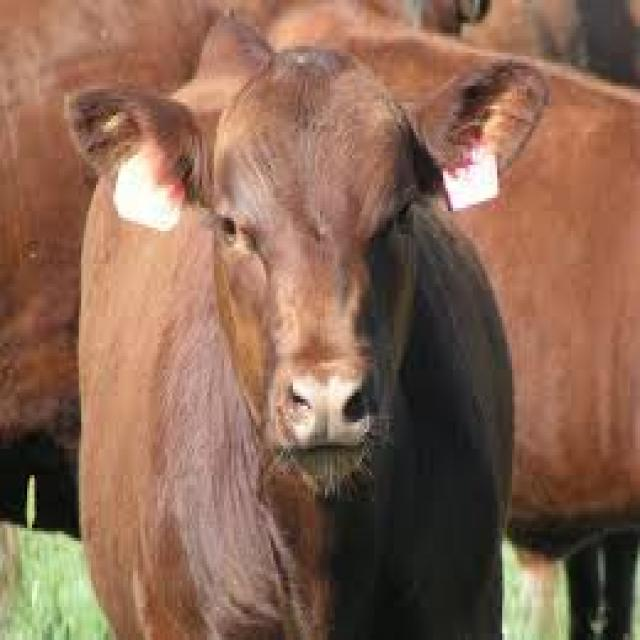cowFace: (54, 40, 547, 498)
